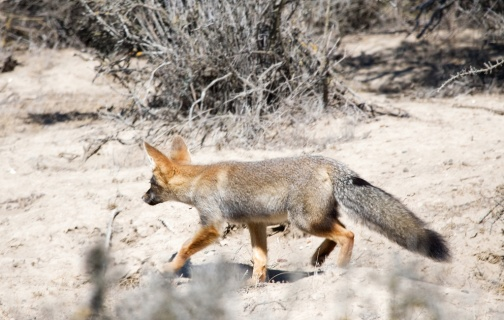Fox: (141, 135, 453, 284)
